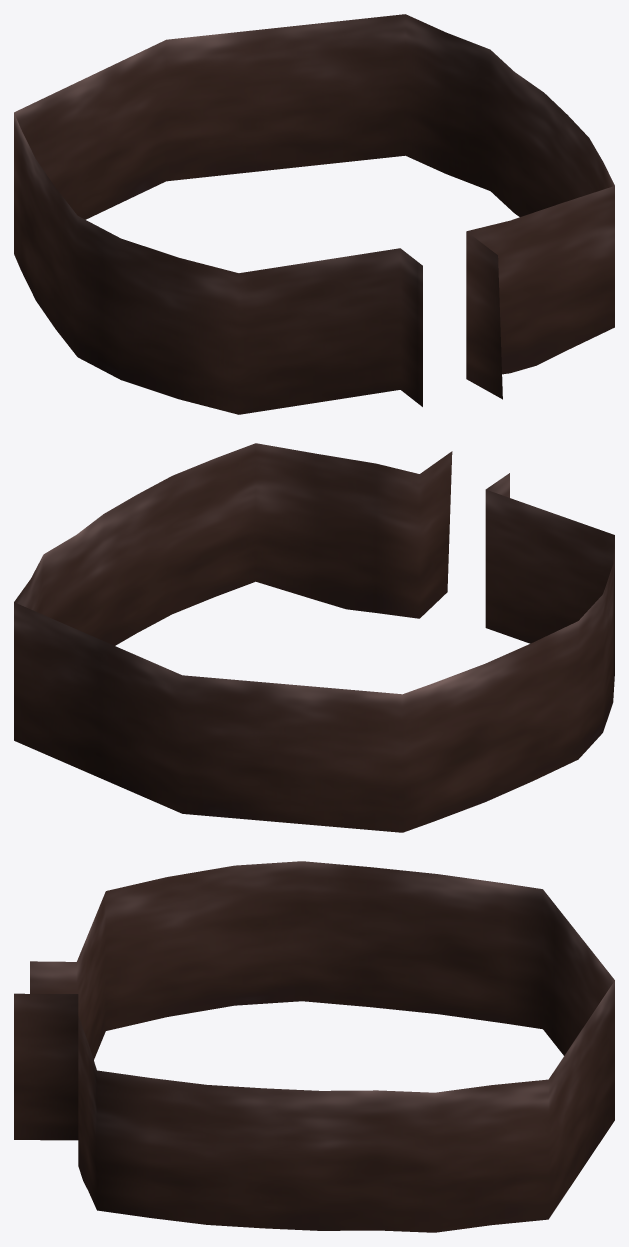
The model's file is Wall06.obj.
The picture shows the model from 3 angles, top to bottom: view 1: azimuth 30°, elevation 25°; view 2: azimuth 150°, elevation 25°; view 3: azimuth 270°, elevation 25°; orthographic projection. The views are drawn at different scales.
Parts seen in each view (by area): view 1: Plane.001_Plane.014; view 2: Plane.001_Plane.014; view 3: Plane.001_Plane.014.
Boxes of the visible parts, box(x1,y1,x2,y2) form: Plane.001_Plane.014: box(14, 14, 614, 414); Plane.001_Plane.014: box(14, 443, 614, 832); Plane.001_Plane.014: box(14, 861, 614, 1232).
Bounding box in the file's own units: 12.62 × 3.87 × 13.84.
Materials: 1 (1 with a texture image).
